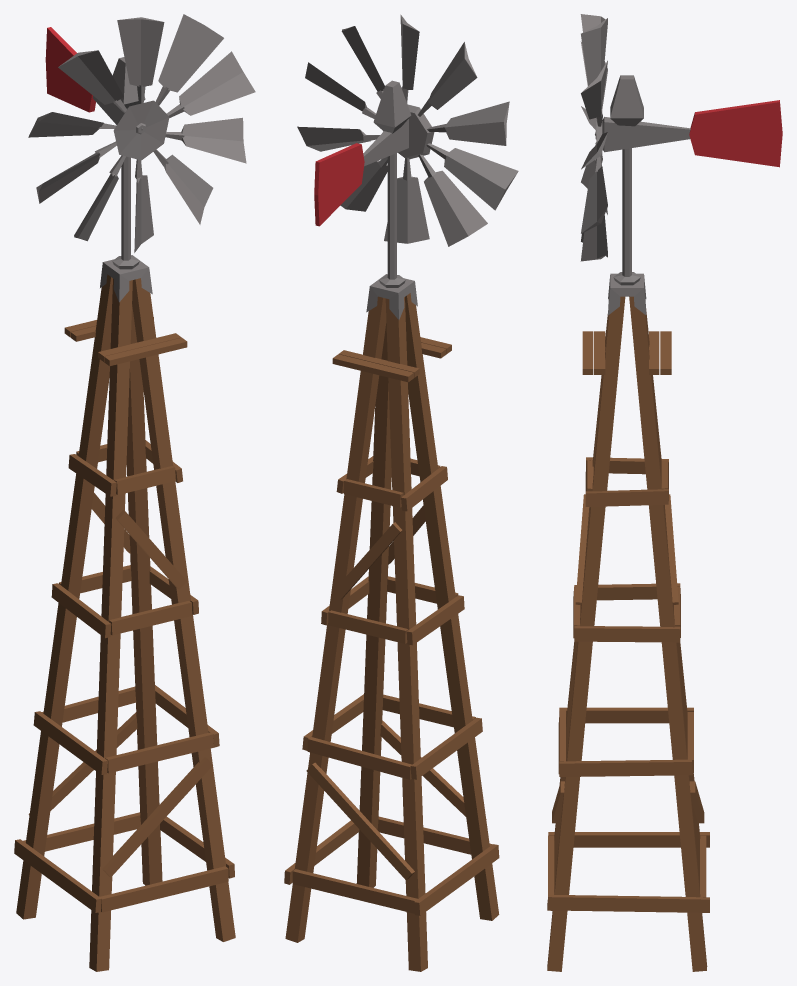
File: windmill-western.glb
3 views of the same model, side by side, from view 1: azimuth 30°, elevation 25°; view 2: azimuth 150°, elevation 25°; view 3: azimuth 270°, elevation 25° (orthographic). The views are drawn at different scales.
Visible parts, largest first — view 1: windmill-western-base, windmill-western-propeller, windmill-westen-tail; view 2: windmill-western-base, windmill-western-propeller, windmill-westen-tail; view 3: windmill-western-base, windmill-westen-tail, windmill-western-propeller.
Boxes of the visible parts, x1,y1,x2,y2 form: windmill-western-base: (14, 255, 235, 971); windmill-western-propeller: (28, 14, 255, 252); windmill-westen-tail: (45, 27, 145, 269); windmill-western-base: (284, 274, 499, 971); windmill-western-propeller: (297, 14, 518, 246); windmill-westen-tail: (314, 80, 411, 287); windmill-western-base: (547, 273, 709, 971); windmill-westen-tail: (595, 75, 782, 285); windmill-western-propeller: (580, 14, 607, 261).
Bounding box in the file's own units: 2.57 × 10.49 × 2.45.
Materials: 1 (1 with a texture image).
